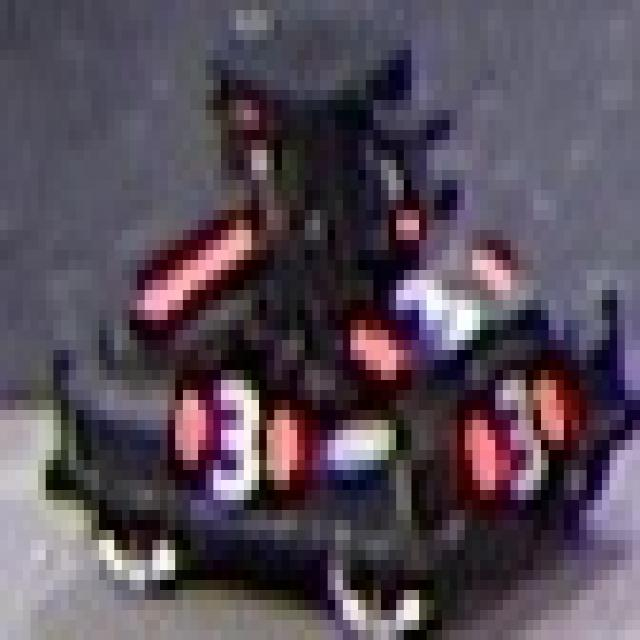R3: (343, 240, 526, 360), (168, 360, 312, 510), (457, 370, 572, 490)
